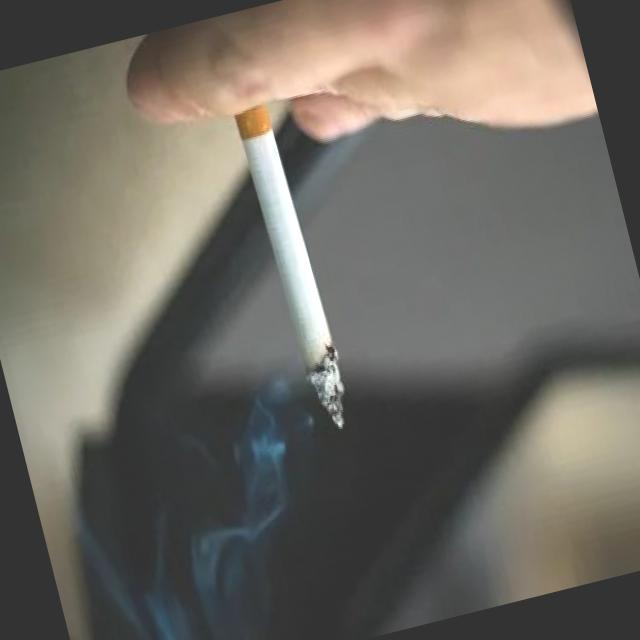cigarette: (224, 88, 363, 444)
